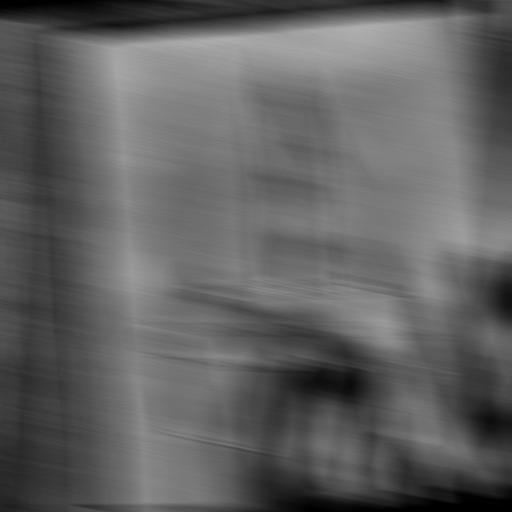boat: (126, 24, 464, 482)
top_left: (462, 0, 491, 15)
top_right: (61, 33, 90, 52)
